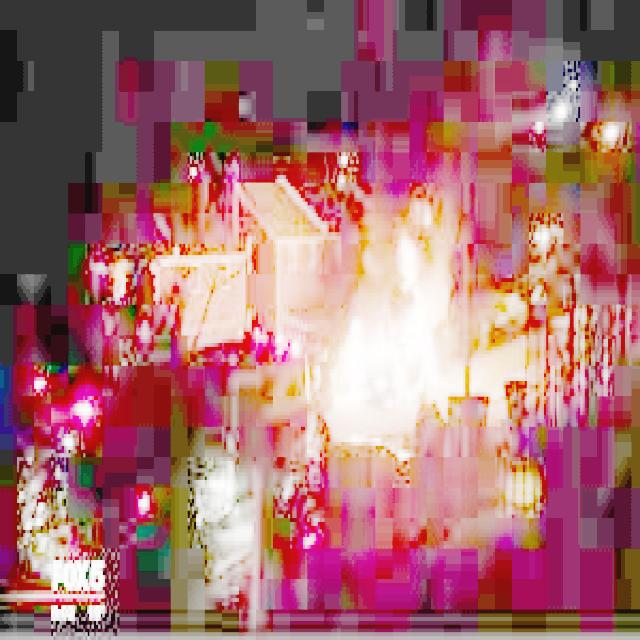api: (328, 241, 451, 416)
